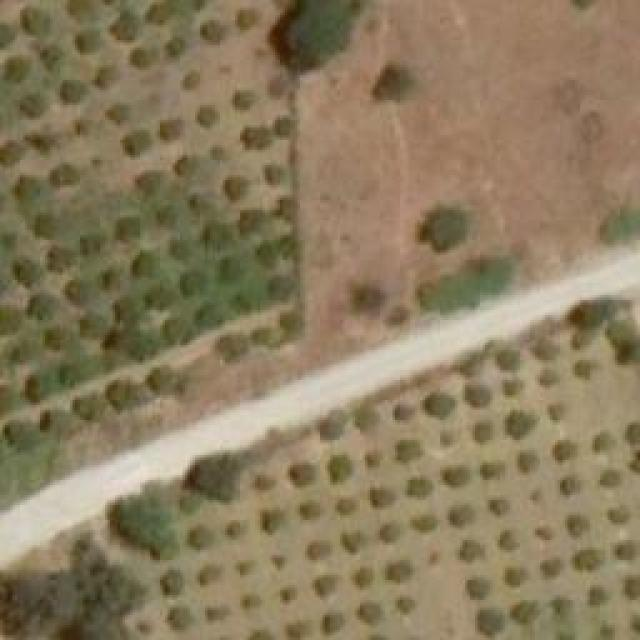Tree: (272, 0, 360, 70), (5, 568, 85, 638), (108, 485, 183, 558), (103, 327, 159, 365), (198, 458, 241, 503), (420, 208, 465, 248), (53, 360, 89, 392), (105, 380, 143, 410), (210, 337, 250, 365), (3, 418, 38, 448), (375, 68, 410, 98), (10, 178, 43, 208), (22, 0, 52, 32), (28, 288, 58, 318), (120, 130, 150, 160), (240, 208, 270, 238), (145, 280, 175, 308), (423, 390, 453, 418), (165, 235, 198, 260), (203, 220, 236, 245), (505, 410, 538, 435), (570, 545, 603, 570), (147, 365, 175, 393), (317, 415, 345, 443), (138, 168, 168, 193), (70, 395, 100, 420), (600, 323, 630, 348), (23, 375, 48, 403), (42, 328, 70, 353), (45, 248, 73, 273), (215, 257, 240, 285), (265, 275, 290, 303), (20, 95, 48, 120), (527, 335, 555, 360), (475, 610, 503, 635), (78, 235, 108, 258), (133, 253, 163, 276), (225, 90, 255, 113), (275, 233, 298, 263), (548, 440, 578, 463), (0, 303, 20, 336), (10, 260, 43, 280), (30, 128, 58, 151), (242, 125, 270, 148), (197, 20, 225, 43), (160, 567, 183, 595), (353, 405, 378, 430), (103, 265, 123, 295), (278, 195, 298, 225), (43, 45, 63, 75), (568, 358, 598, 378), (183, 270, 208, 293), (55, 163, 78, 188), (253, 325, 278, 348), (280, 310, 303, 335), (110, 18, 135, 41), (495, 348, 520, 371), (445, 503, 470, 526), (500, 565, 525, 588), (443, 463, 466, 488), (560, 513, 585, 536), (617, 572, 640, 597), (513, 600, 538, 623), (220, 178, 248, 198), (407, 513, 435, 533), (115, 298, 138, 321), (5, 58, 28, 81), (60, 80, 83, 103), (288, 463, 311, 486), (320, 613, 343, 636), (543, 400, 566, 423), (600, 218, 623, 241), (465, 578, 488, 601), (0, 142, 22, 165), (115, 215, 140, 235), (68, 278, 88, 303), (158, 208, 183, 228), (83, 315, 108, 335), (103, 105, 128, 125), (158, 120, 183, 140), (193, 105, 218, 125), (163, 320, 188, 340), (130, 45, 150, 70), (330, 455, 350, 480), (395, 440, 420, 460), (355, 603, 380, 623), (465, 385, 490, 405), (473, 420, 493, 445), (38, 410, 61, 430), (275, 115, 295, 138), (93, 70, 116, 90), (75, 30, 98, 50), (168, 608, 191, 628), (298, 500, 321, 520), (340, 530, 363, 550), (313, 573, 333, 596), (385, 563, 408, 583), (593, 430, 613, 453), (598, 468, 621, 488), (555, 475, 578, 495), (485, 498, 508, 518), (605, 505, 628, 525), (618, 540, 638, 563), (588, 585, 611, 605), (258, 510, 283, 528), (335, 497, 360, 515), (283, 622, 308, 640), (475, 460, 500, 478), (538, 557, 563, 575), (625, 415, 640, 443), (255, 245, 273, 268), (178, 497, 201, 515), (198, 565, 221, 583), (405, 477, 428, 495), (180, 73, 200, 93), (33, 218, 53, 238), (165, 38, 185, 58), (190, 528, 210, 548), (260, 162, 280, 180), (185, 195, 203, 215), (205, 142, 225, 160), (238, 10, 258, 28), (225, 520, 245, 538), (370, 487, 390, 505), (305, 540, 325, 558), (393, 402, 413, 420), (538, 370, 558, 388), (515, 452, 535, 470), (460, 542, 480, 560), (595, 620, 613, 640), (175, 158, 198, 173), (205, 605, 228, 620), (440, 427, 458, 445), (500, 377, 518, 395), (365, 453, 383, 468), (380, 525, 398, 540), (497, 533, 515, 548), (535, 525, 553, 540), (0, 235, 15, 250), (358, 570, 373, 585), (240, 595, 255, 610)
